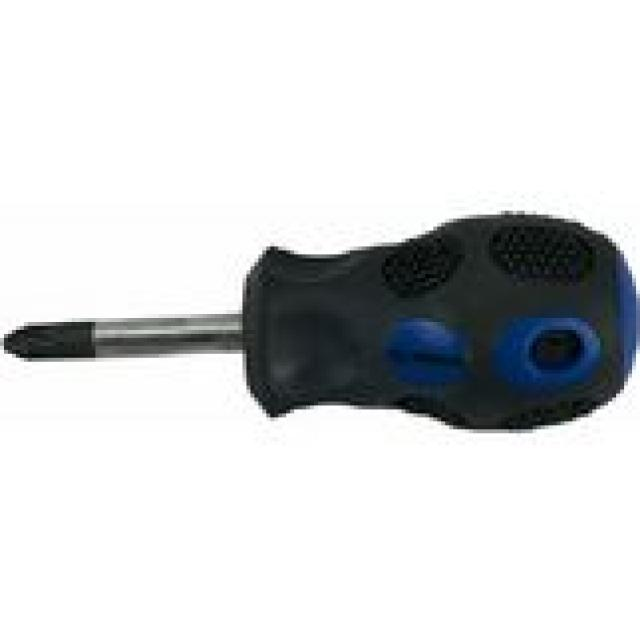Screwdriver: (4, 215, 636, 427)
